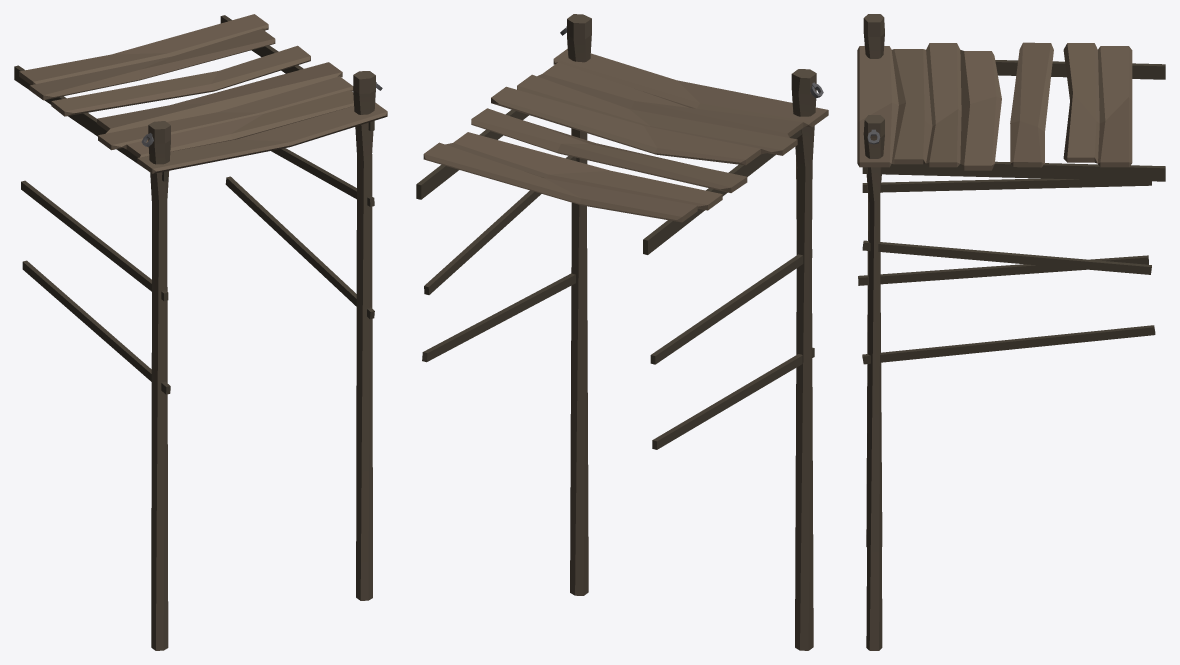
The model's file is SM_Bld_Dock_03.glb.
The picture shows the model from 3 angles, left to right: view 1: azimuth 30°, elevation 25°; view 2: azimuth 150°, elevation 25°; view 3: azimuth 270°, elevation 25°; orthographic projection. The views are drawn at different scales.
Parts seen in each view (by area): view 1: SM_Bld_Dock_03; view 2: SM_Bld_Dock_03; view 3: SM_Bld_Dock_03.
Part boxes in pixels (<box>): SM_Bld_Dock_03: <box>14,14,387,650</box>; SM_Bld_Dock_03: <box>416,14,828,650</box>; SM_Bld_Dock_03: <box>857,14,1165,650</box>.
Bounding box in the file's own units: 0.0382 × 0.0767 × 0.0406.
